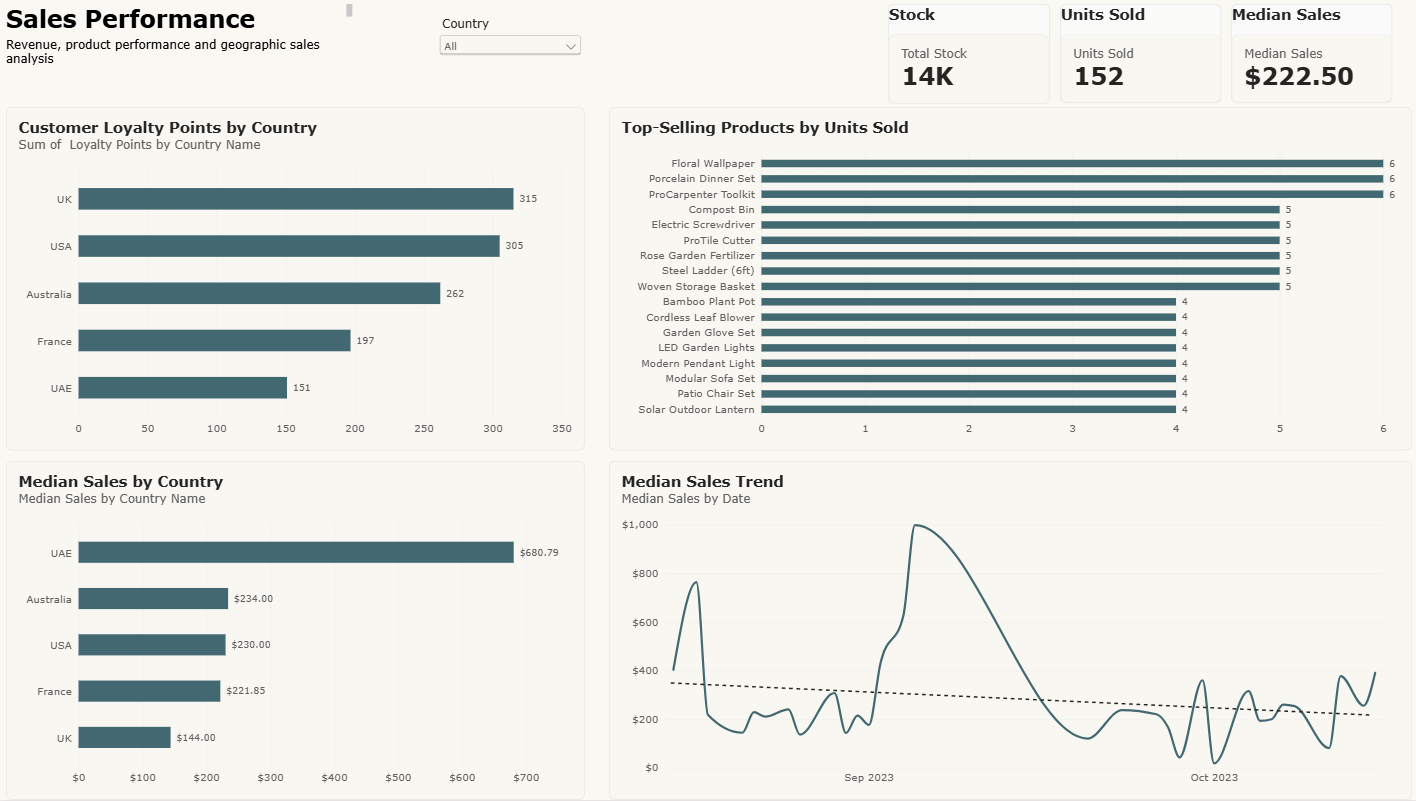

The dashboard page shown, as its layout file describes it:
{"tool":"powerbi","page":{"name":"Sales Overview","canvas":[1920,1080],"ordinal":0},"visuals":[{"type":"clusteredBarChart","title":"Customer Loyalty Points by Country","fields":{"Category":["Sales in USD.Country Name"],"Y":["Sum(Sales in USD. Loyalty Points)"]},"box":[10.6,145,782.1,464.2],"z":0},{"type":"clusteredBarChart","title":"Top-Selling Products by Units Sold","fields":{"Category":["Sales in USD.Product Name"],"Y":["Sum(Sales in USD.Quantity Purchased)"]},"box":[826,145,1085.3,464.2],"z":1},{"type":"clusteredBarChart","title":"Median Sales by Country","fields":{"Category":["Sales in USD.Country Name"],"Y":["Sales in USD.Median Sales"]},"box":[10.6,622.5,782.1,457.5],"z":2},{"type":"lineChart","title":"Median Sales Trend","fields":{"Category":["CalendarTable.Date"],"Y":["Sales in USD.Median Sales"]},"box":[826,622.5,1085.3,457.5],"z":3},{"type":"cardVisual","title":"Stock","fields":{"Data":["Sum(Sales in USD. Stock  )"]},"box":[1202.7,5.3,218.7,134.7],"z":4},{"type":"cardVisual","title":"Units Sold","fields":{"Data":["CalendarTable.Units Sold"]},"box":[1435.1,5.3,218.1,134.3],"z":5},{"type":"cardVisual","title":"Median Sales","fields":{"Data":["Sales in USD.Median Sales"]},"box":[1666.7,5.3,218.1,134.3],"z":6},{"type":"slicer","fields":{"Values":["Sales in USD.Country Name"]},"box":[591.9,21.3,200.8,57.2],"z":7},{"type":"textbox","box":[10.6,5.3,468.2,35.9],"z":8},{"type":"textbox","box":[10.7,50.7,456,41.3],"z":9}]}

Visuals, with their boxes in screenshot pixels (x1, y1, x2, y2), scaled from the page's 1920x1080 canvas onto the 1416x801 screenshot:
"Customer Loyalty Points by Country" clusteredBarChart: region(8, 108, 585, 452)
"Top-Selling Products by Units Sold" clusteredBarChart: region(609, 108, 1410, 452)
"Median Sales by Country" clusteredBarChart: region(8, 462, 585, 800)
"Median Sales Trend" lineChart: region(609, 462, 1410, 800)
"Stock" cardVisual: region(887, 4, 1048, 104)
"Units Sold" cardVisual: region(1058, 4, 1219, 104)
"Median Sales" cardVisual: region(1229, 4, 1390, 104)
slicer - Sales in USD.Country Name: region(437, 16, 585, 58)
textbox: region(8, 4, 353, 31)
textbox: region(8, 38, 344, 68)
